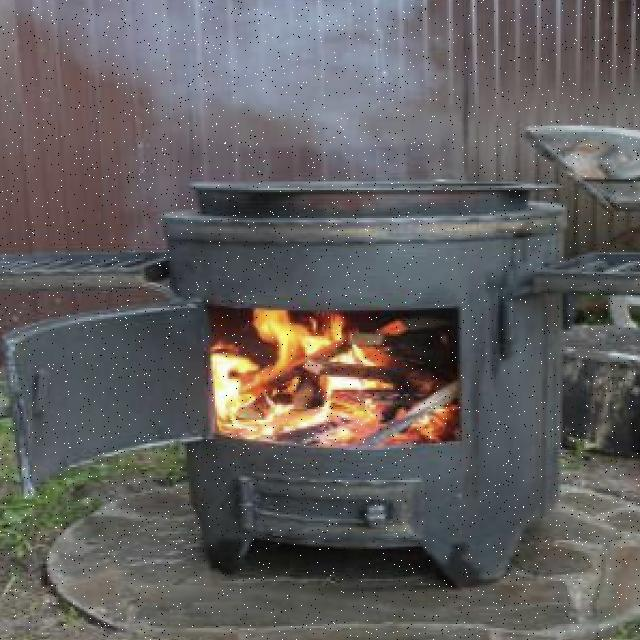fire: (206, 296, 468, 461)
smoke: (37, 0, 457, 178)
